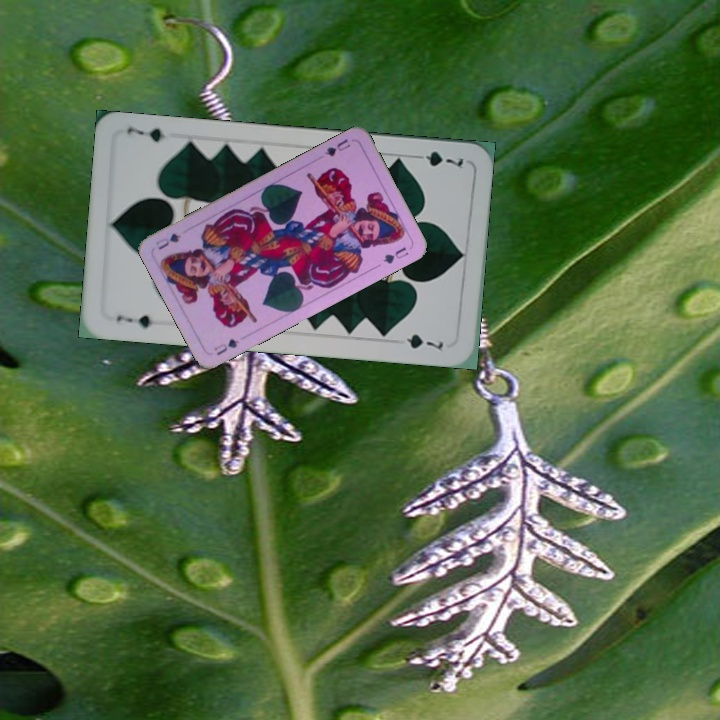G7: (409, 147, 467, 172), (112, 311, 164, 330)
GU: (321, 135, 353, 159), (210, 335, 242, 358)
